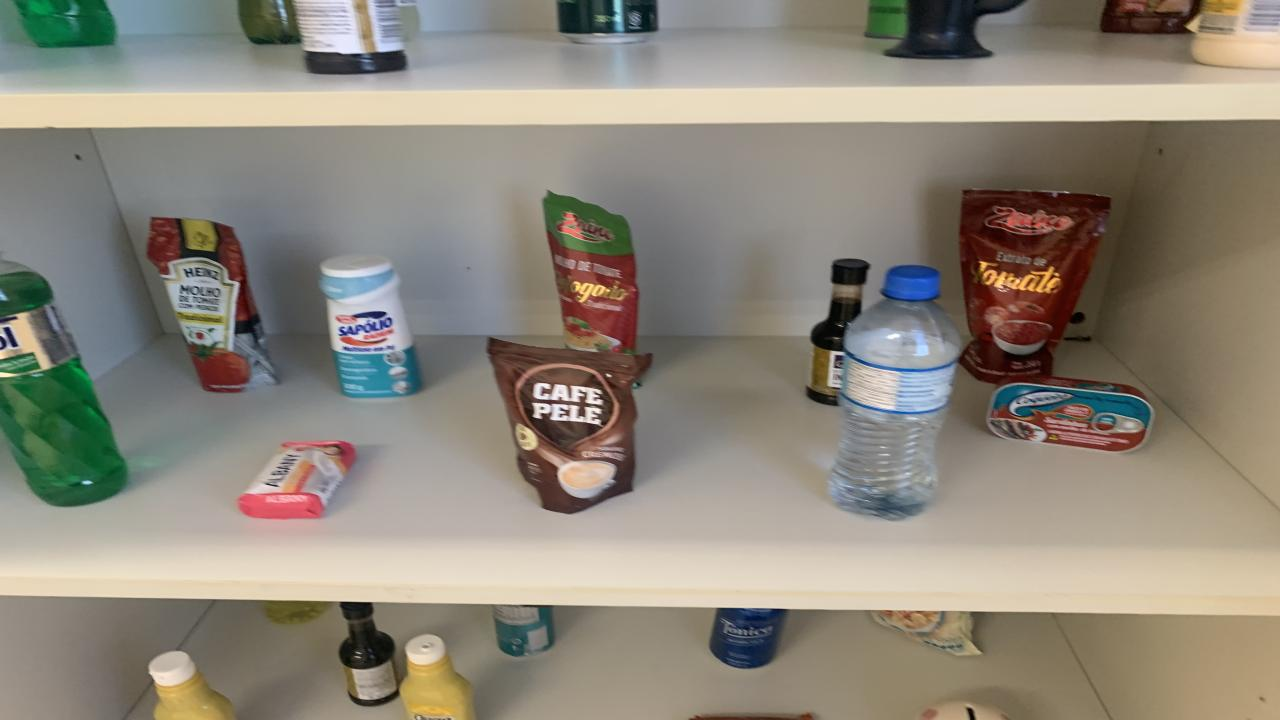Cleaner-Cleanup_Items: (320, 255, 422, 398)
Coffee-Pantry_Items: (488, 338, 652, 514)
Detergent-Cleanup_Items: (0, 259, 128, 506), (15, 0, 118, 47), (262, 600, 330, 624)
English_Sauce-Pantry_Items: (808, 259, 870, 405), (295, 0, 408, 73), (338, 604, 400, 709)
Flakes-Snacks: (870, 609, 980, 656)
Guarana-Drinks: (238, 0, 300, 45)
Guarana_Can-Drinks: (558, 0, 658, 43)
Mayonnaise-Pantry_Items: (1192, 0, 1280, 69)
Mustard-Pantry_Items: (400, 634, 475, 720), (148, 651, 235, 720)
Pig_Safe-Miscellaneous: (920, 701, 1010, 720)
Pringles-Snacks: (865, 0, 908, 38)
Soap-Cleanup_Items: (238, 441, 355, 518)
Tea-Drinks: (492, 606, 555, 656)
Tomato_Sauce-Pantry_Items: (960, 189, 1110, 382), (148, 218, 278, 392), (542, 193, 638, 352), (1100, 0, 1200, 34)
Tonic-Drinks: (710, 608, 785, 668)
Tuna_Can-Pantry_Items: (985, 377, 1155, 452)
Water_Bottle-Drinks: (830, 266, 962, 519)
